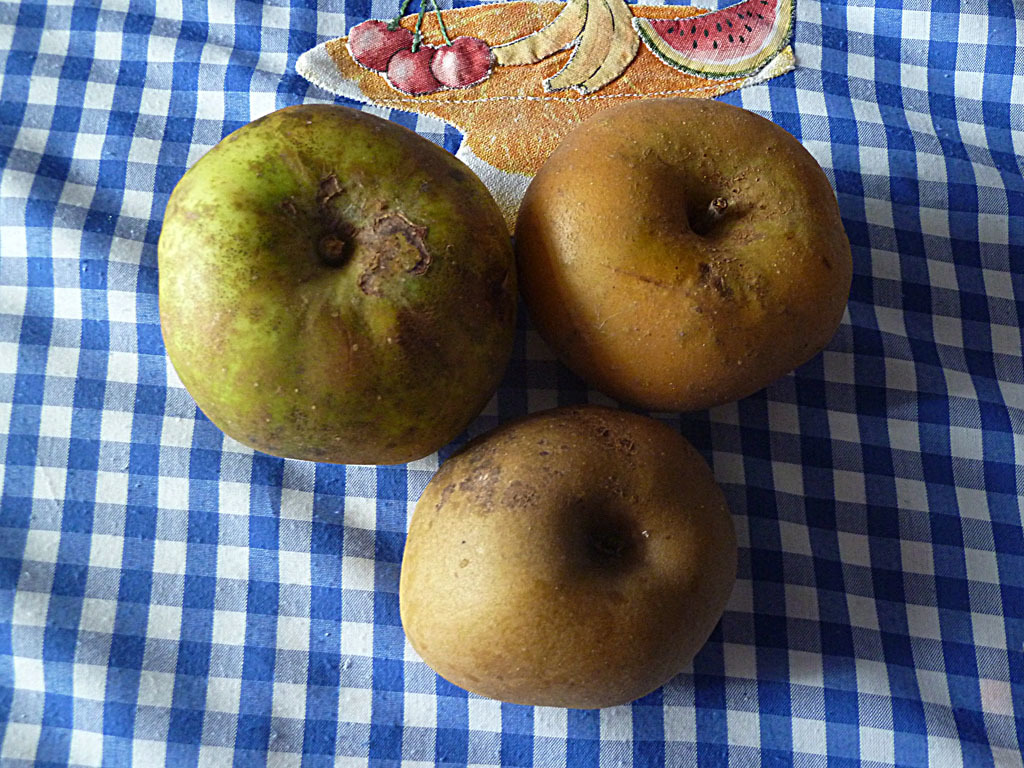Apple: (170, 107, 522, 477), (517, 93, 855, 416), (394, 415, 743, 710)
